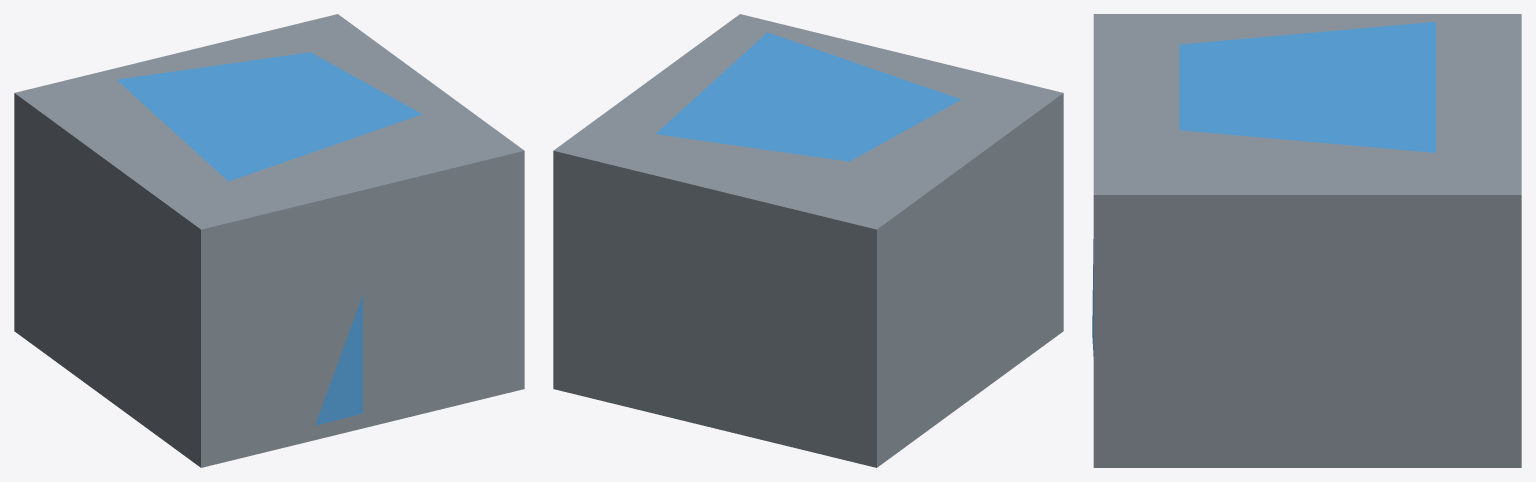
File: AL_SuperweaponChrono_LOD1.glb
3 renders of one model, left to right at view 1: azimuth 30°, elevation 25°; view 2: azimuth 150°, elevation 25°; view 3: azimuth 270°, elevation 25°, orthographic. The views are drawn at different scales.
Visible parts, largest first — view 1: EntranceGate; view 2: EntranceGate; view 3: EntranceGate.
Boxes of the visible parts, x1=… form: EntranceGate: x1=14, y1=14, x2=524, y2=467; EntranceGate: x1=553, y1=14, x2=1063, y2=467; EntranceGate: x1=1092, y1=14, x2=1521, y2=467.
Bounding box in the file's own units: 1000 × 777 × 1003.
